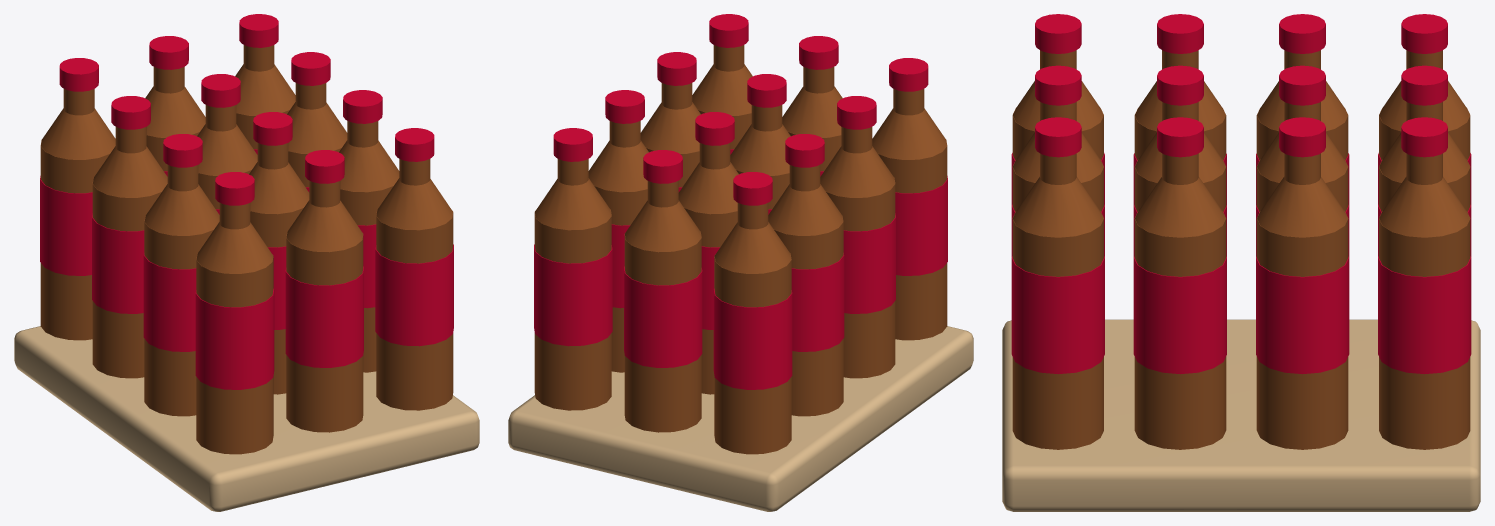
Rendered from Bottle_Tray_12.fbx.
3 views of the same model, side by side, from view 1: azimuth 30°, elevation 25°; view 2: azimuth 150°, elevation 25°; view 3: azimuth 270°, elevation 25° (orthographic). The views are drawn at different scales.
Visible parts, largest first — view 1: Bottle_Tray_12_Amber, Bottle_Tray_12_Red, Bottle_Tray_12_Cardboard; view 2: Bottle_Tray_12_Amber, Bottle_Tray_12_Red, Bottle_Tray_12_Cardboard; view 3: Bottle_Tray_12_Amber, Bottle_Tray_12_Red, Bottle_Tray_12_Cardboard.
Part boxes in pixels (<box>): Bottle_Tray_12_Amber: <box>40,45,453,454</box>; Bottle_Tray_12_Red: <box>40,14,453,389</box>; Bottle_Tray_12_Cardboard: <box>14,326,479,511</box>; Bottle_Tray_12_Amber: <box>534,45,947,454</box>; Bottle_Tray_12_Red: <box>534,14,947,389</box>; Bottle_Tray_12_Cardboard: <box>508,326,973,511</box>; Bottle_Tray_12_Amber: <box>1012,50,1470,449</box>; Bottle_Tray_12_Red: <box>1011,14,1471,374</box>; Bottle_Tray_12_Cardboard: <box>1002,319,1480,511</box>.
Bounding box in the file's own units: 36 × 39.4 × 47.
